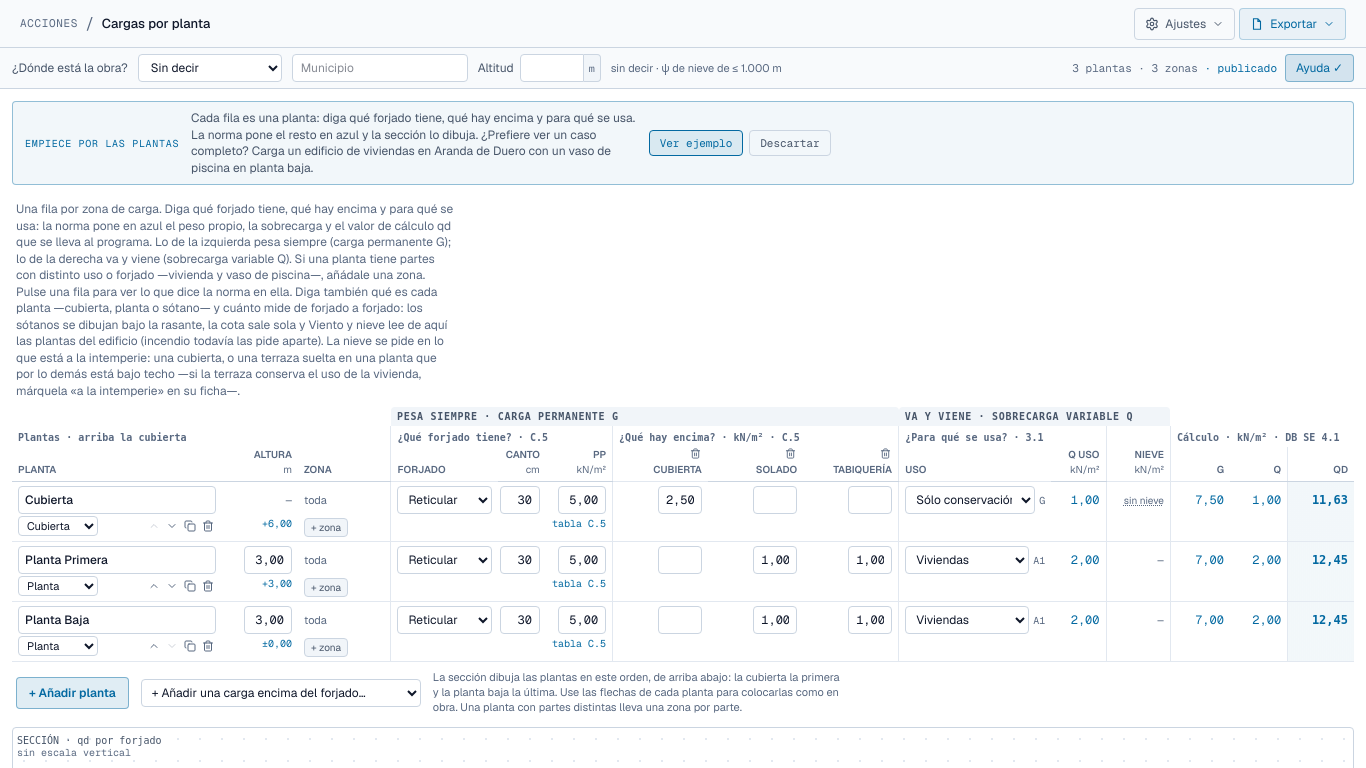
Test: Cargas por planta — la tabla › el peso propio se pisa tecleándolo y se recupera desde la ficha
Step 1. Replace the text in the field named "Peso propio de Planta Baja" with "6,2" → {"x": 582, "y": 620}, box x1=558 y1=606 x2=606 y2=634
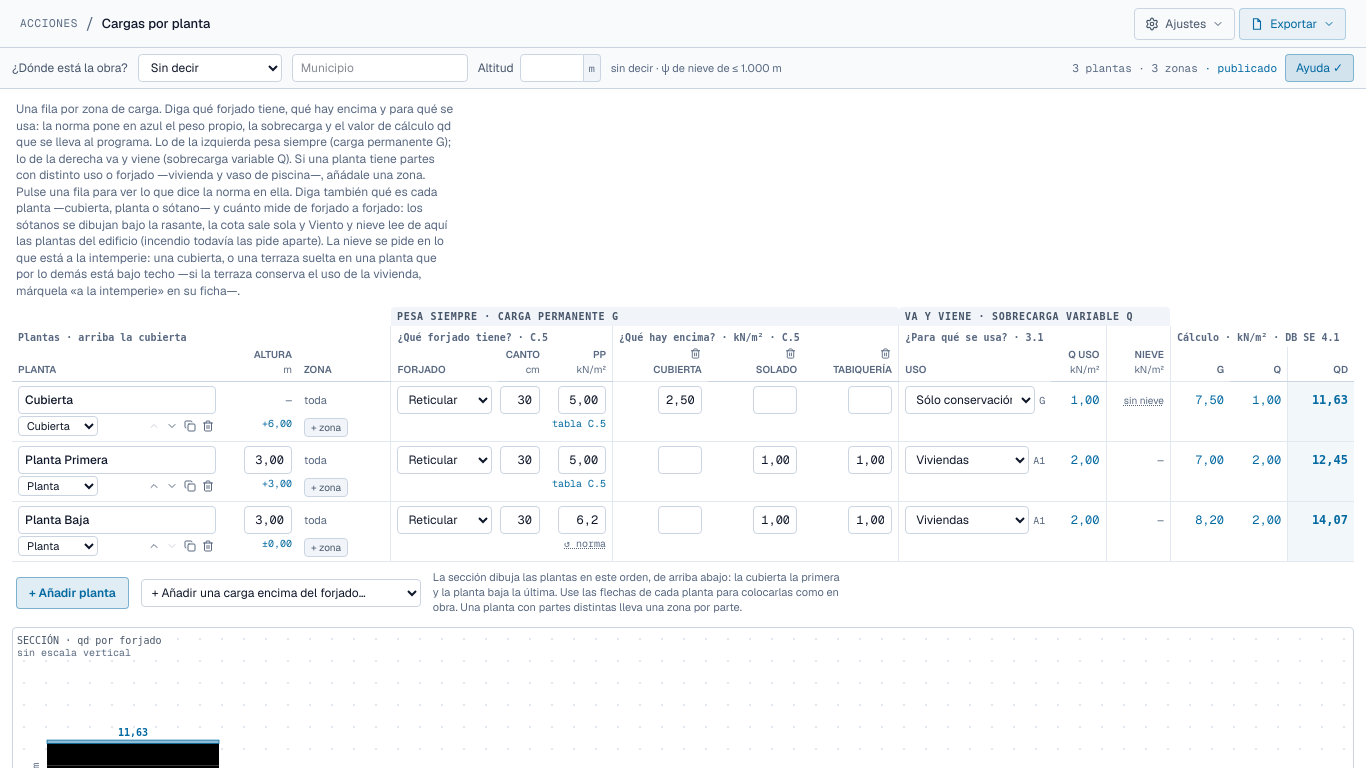
Note: Con valor propio, la fila ofrece volver a la norma.
Step 2. Click the button with aria-label "Usar el peso propio de la norma en Planta Baja" → {"x": 585, "y": 544}, box x1=564 y1=536 x2=606 y2=551
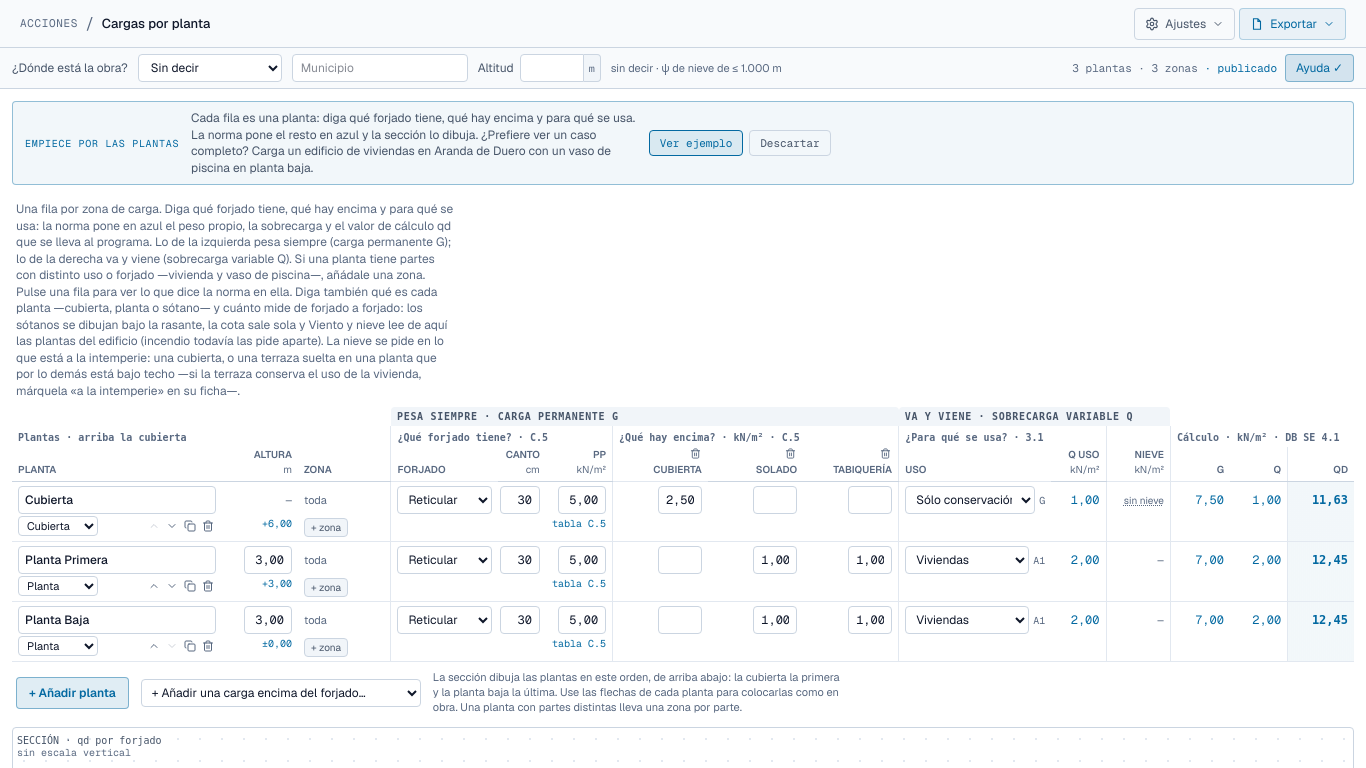
Expected: the field named "Peso propio de Planta Baja" holds "5,00", x1=558 y1=606 x2=606 y2=634
